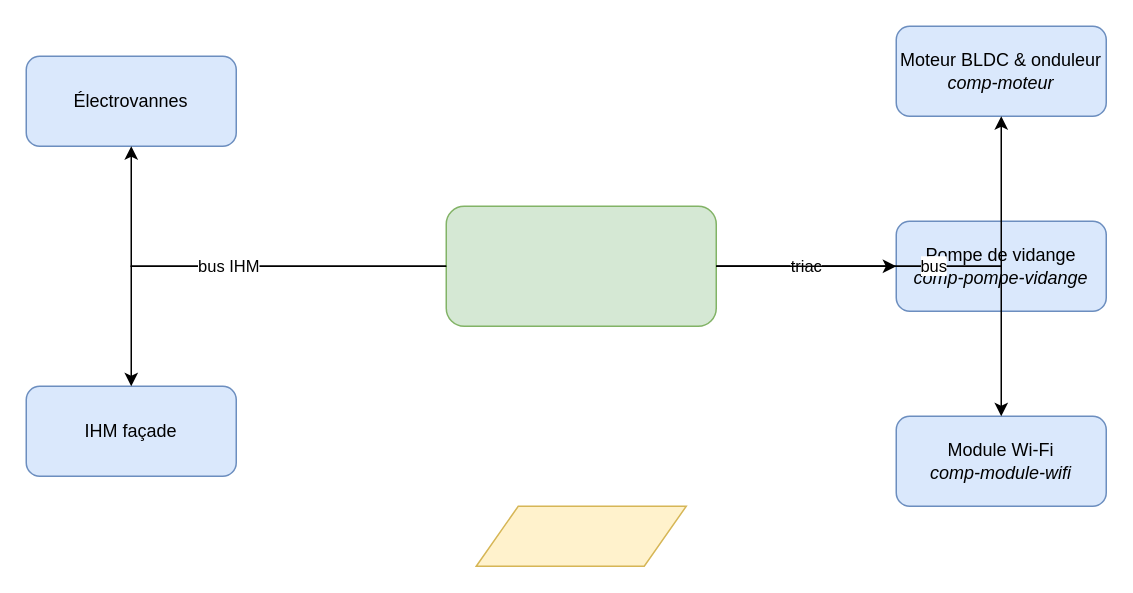
Some shapes in this 1133 by 593 pixel diagram are drawn without their labels. Here are the shapes that lost their labels. From the top down, the centre of each, then its label:
point 580,265: Carte de commande
point 580,535: Bus interne if-bus-interne
